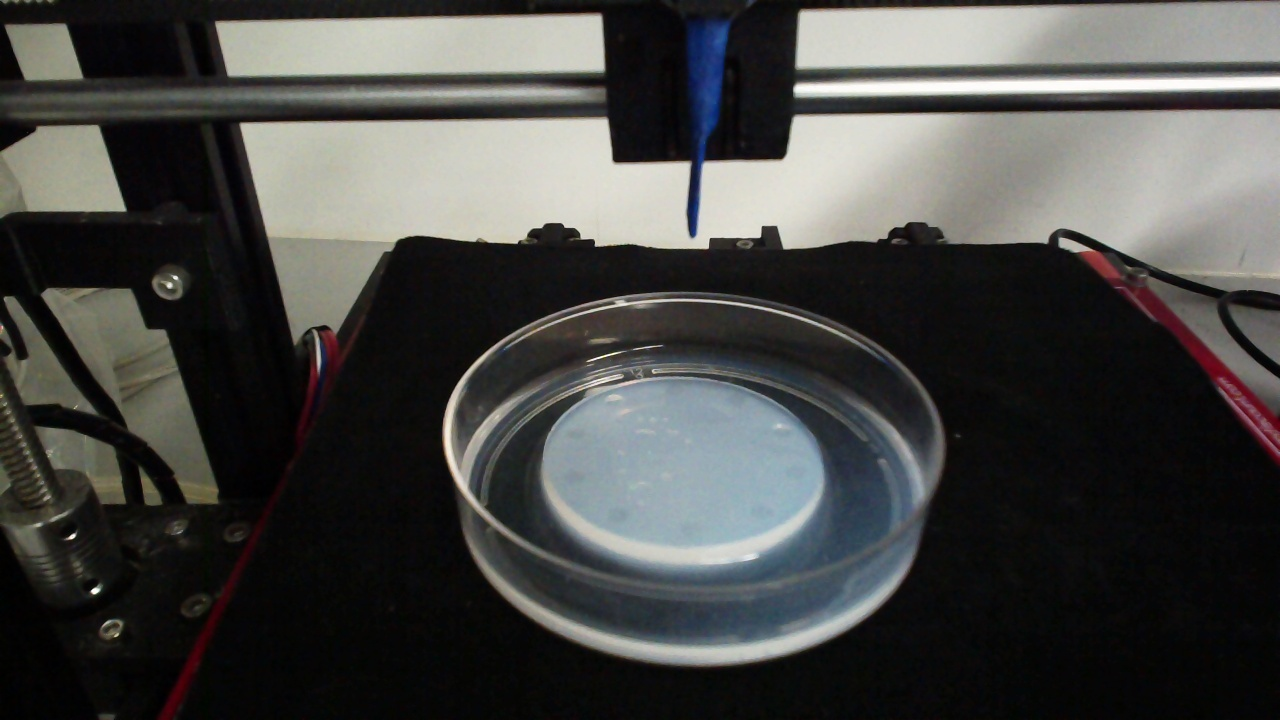groove: (678, 521, 708, 540), (748, 503, 776, 521), (605, 505, 630, 524), (784, 463, 809, 481), (772, 422, 796, 439), (563, 467, 584, 485), (728, 390, 750, 407), (602, 393, 625, 409), (564, 424, 584, 439), (664, 383, 687, 396)
needle: (686, 19, 729, 234)
